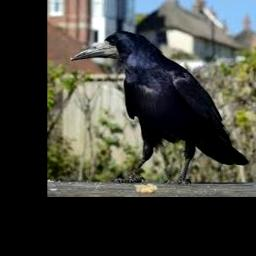Crow: (71, 29, 248, 184)
